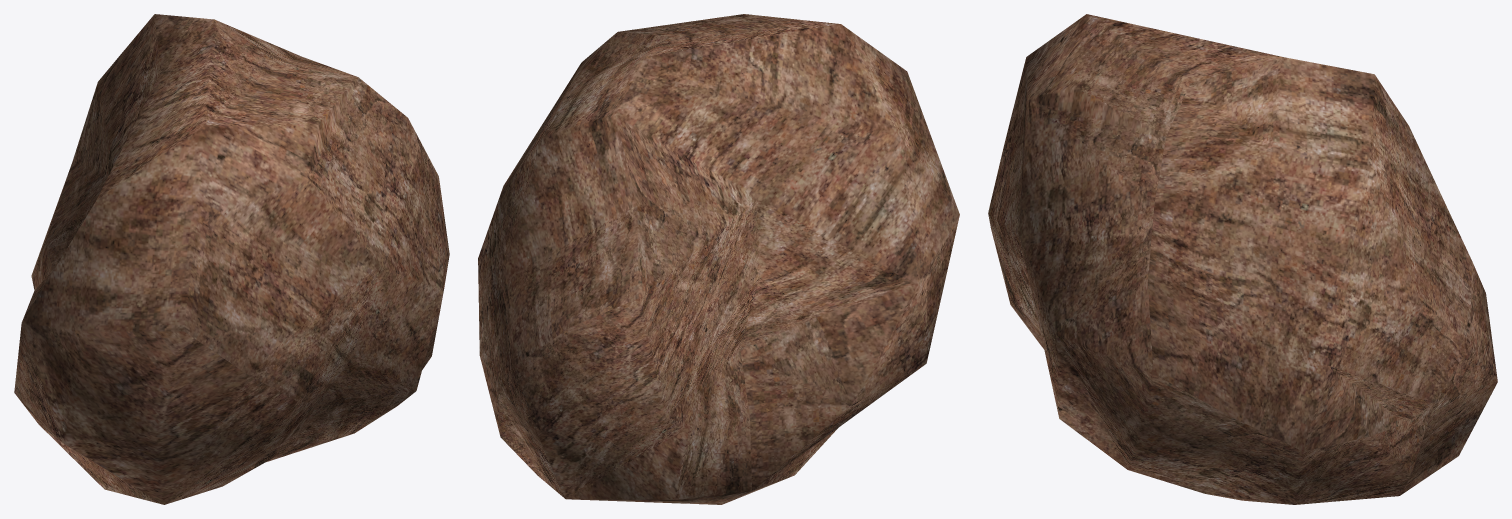
Rendered from rock_dath_desertboulder_a1_l2.fbx.
3 renders of one model, left to right at view 1: azimuth 30°, elevation 25°; view 2: azimuth 150°, elevation 25°; view 3: azimuth 270°, elevation 25°, orthographic. The views are drawn at different scales.
Visible parts, largest first — view 1: mesh_node; view 2: mesh_node; view 3: mesh_node.
Part boxes in pixels (x1,y1,x2,y2): mesh_node: [14, 14, 449, 504]; mesh_node: [478, 14, 959, 504]; mesh_node: [988, 14, 1497, 504].
Size of the model in its own units: 1.55 by 1.58 by 1.63.
